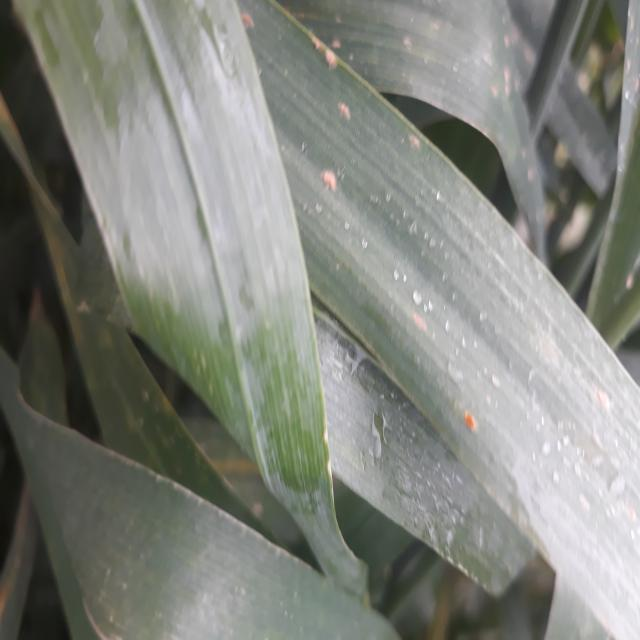orang_rust: (458, 394, 492, 467)
